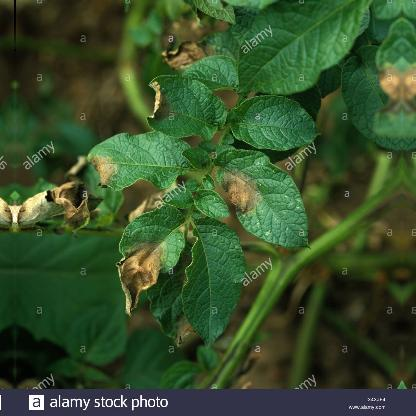Late-Blight: (13, 23, 338, 353)
